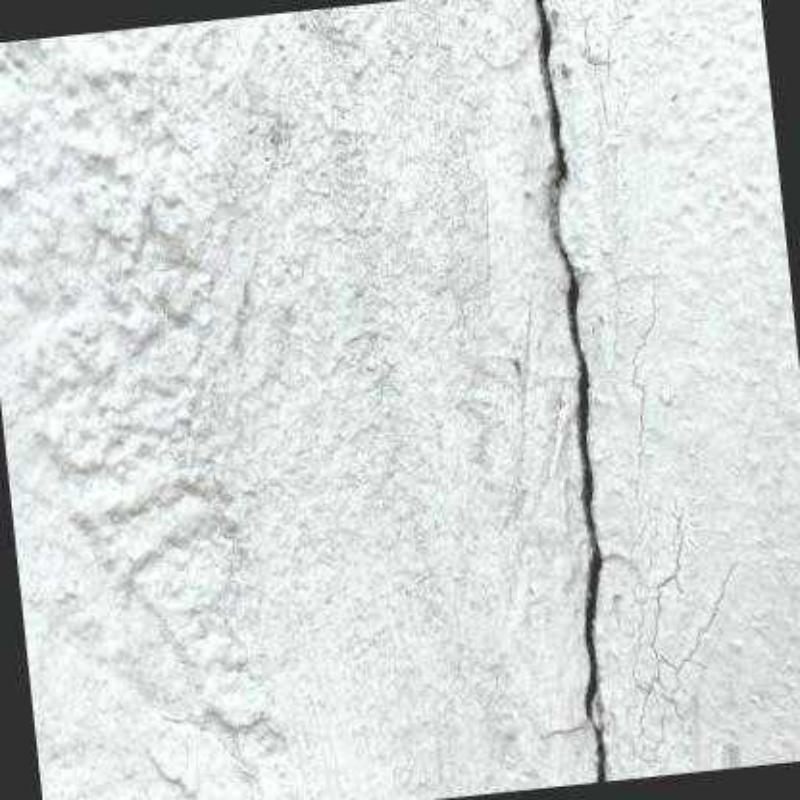pothole: (535, 1, 606, 782)
